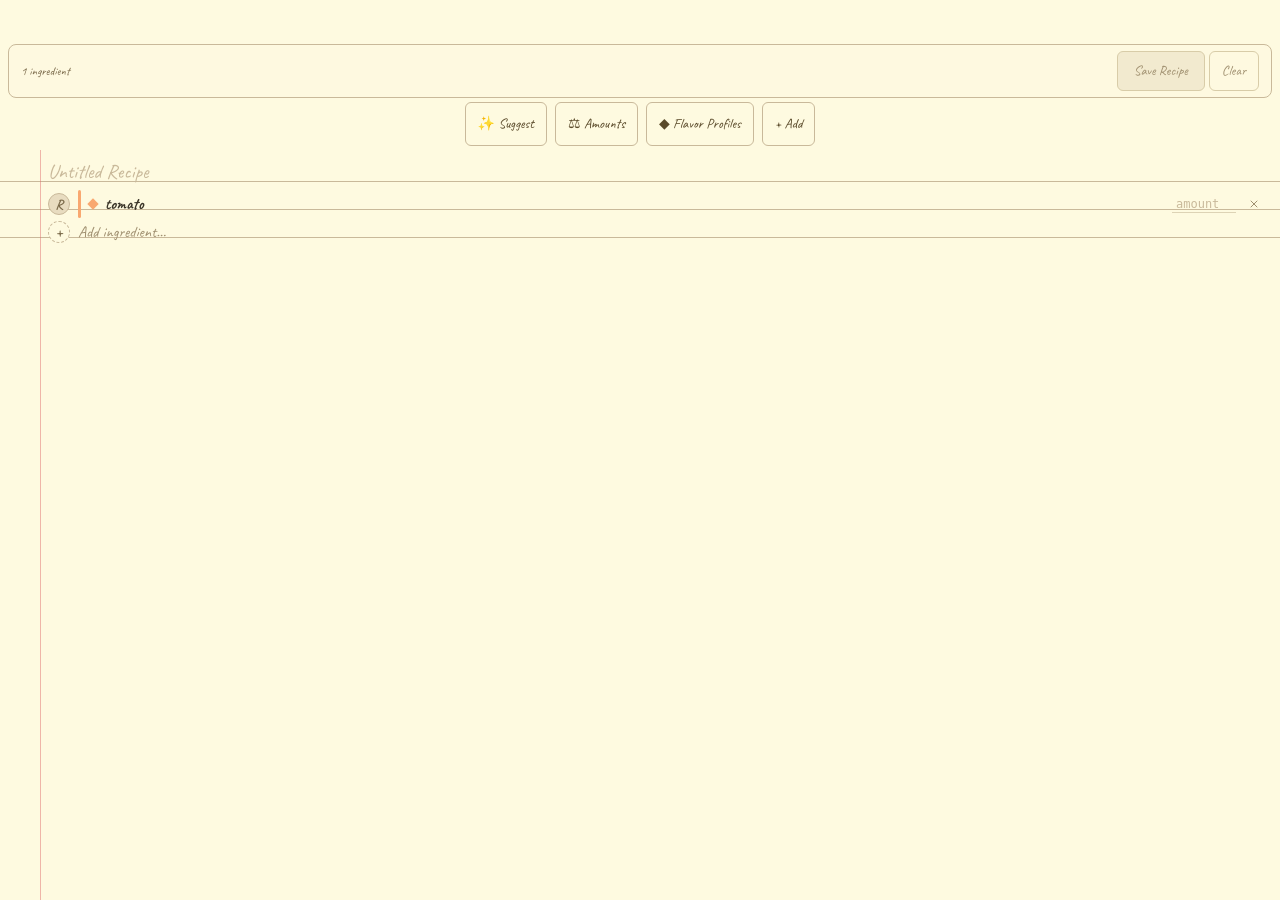
it: RecipeLabMobile — RL-PORTIONS-UI bowl shape + amount input › committing an amount surfaces the parsed chip beside the input
Type "2 medium" into the field with test id "amount-input-tomato" at point(1204, 204), box [1172, 196, 1236, 212]
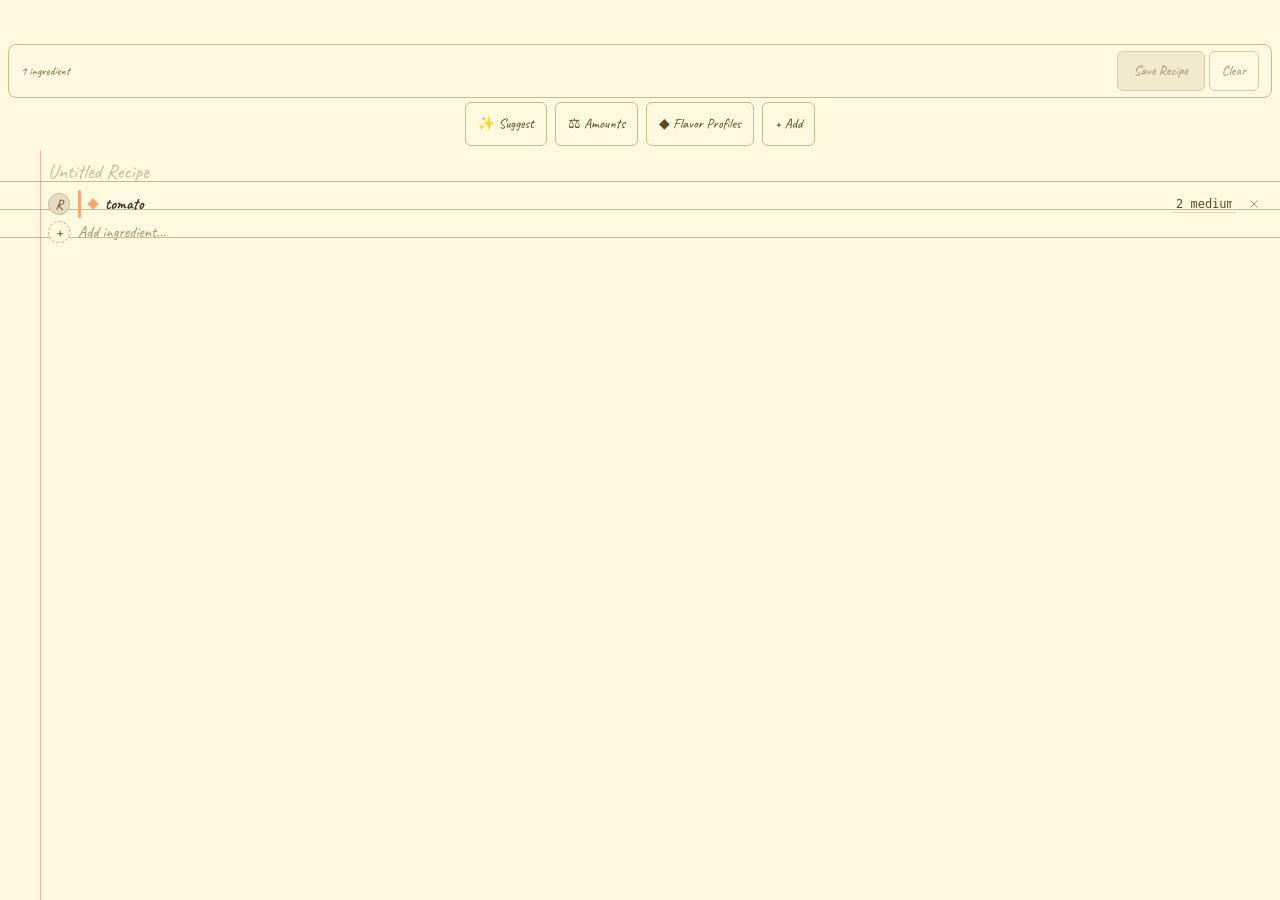
Leave the field with test id "amount-input-tomato", box [1172, 196, 1236, 212]
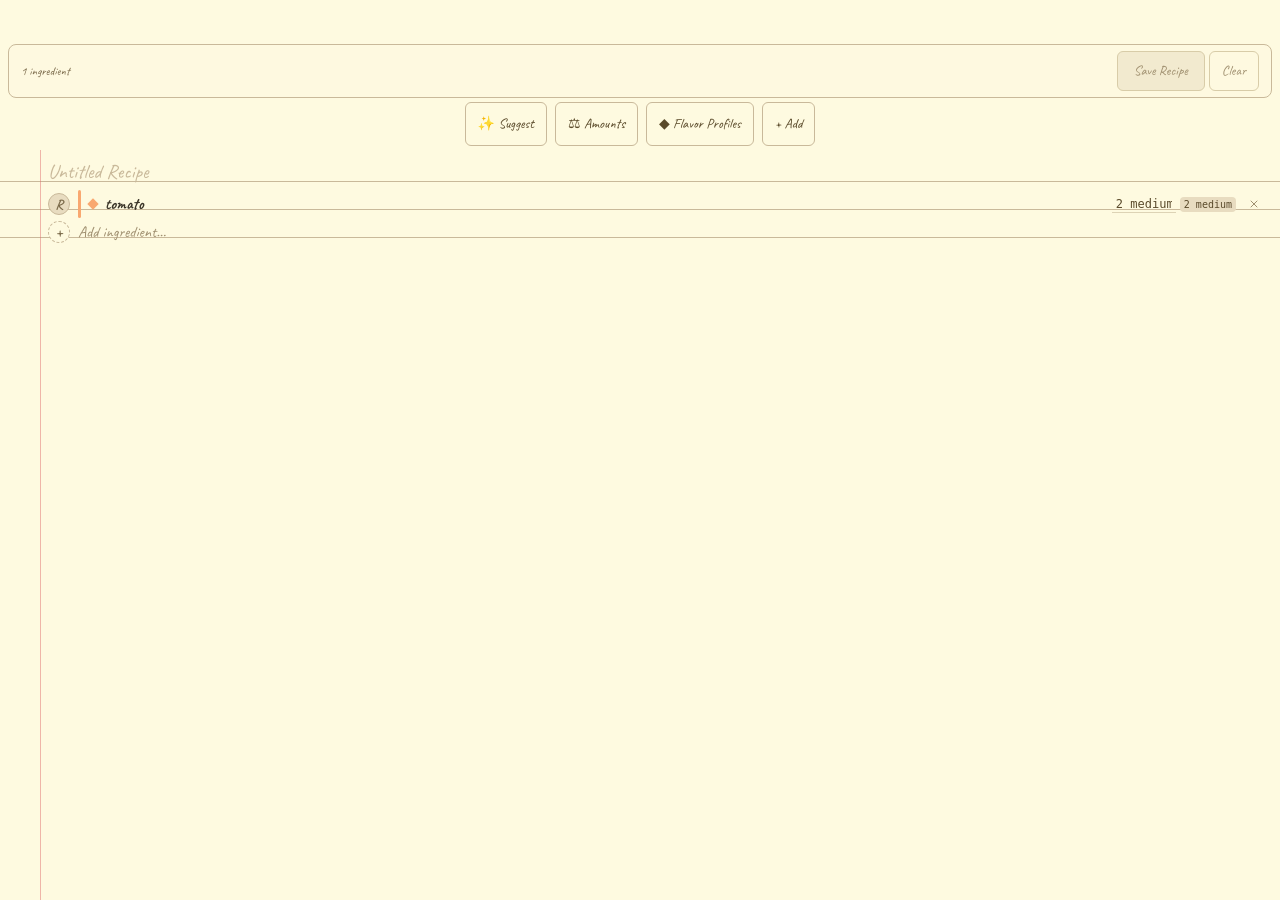
expect the text with test id "amount-chip-tomato" shows "2": met, box [1184, 198, 1232, 210]
expect the text with test id "amount-chip-tomato" shows "medium": met, box [1184, 198, 1232, 210]
